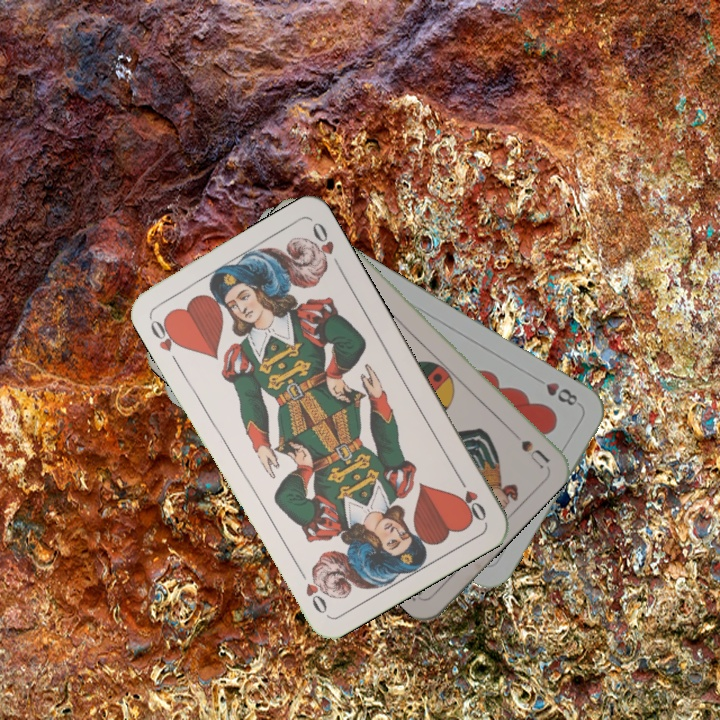H8: (542, 378, 580, 409)
HO: (452, 470, 489, 524), (145, 313, 186, 355)
SU: (502, 421, 552, 470)
